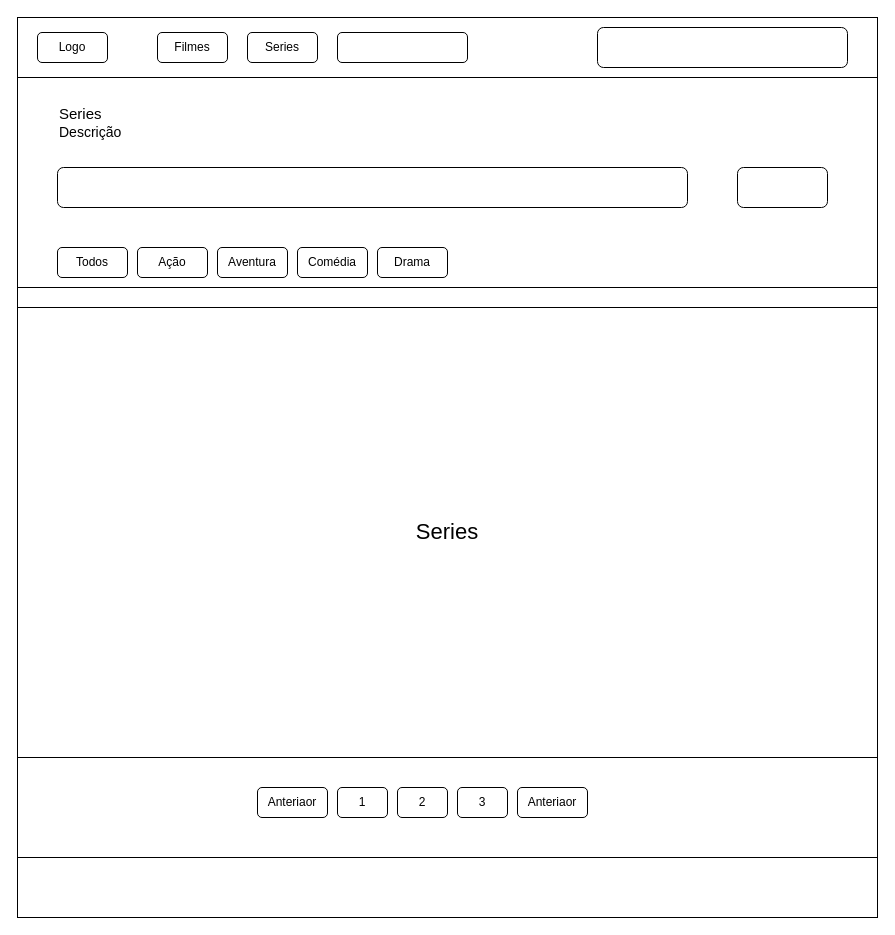
This 895x935 diagram has some shape labels left out. The centre of each missing label's shape, as x and y in pixels:
Buscar...: the point at 722,47
Filtros: the point at 782,187
Footer: the point at 447,887
Melhores Avaliados: the point at 402,47
Ordenar por: ...: the point at 372,187
